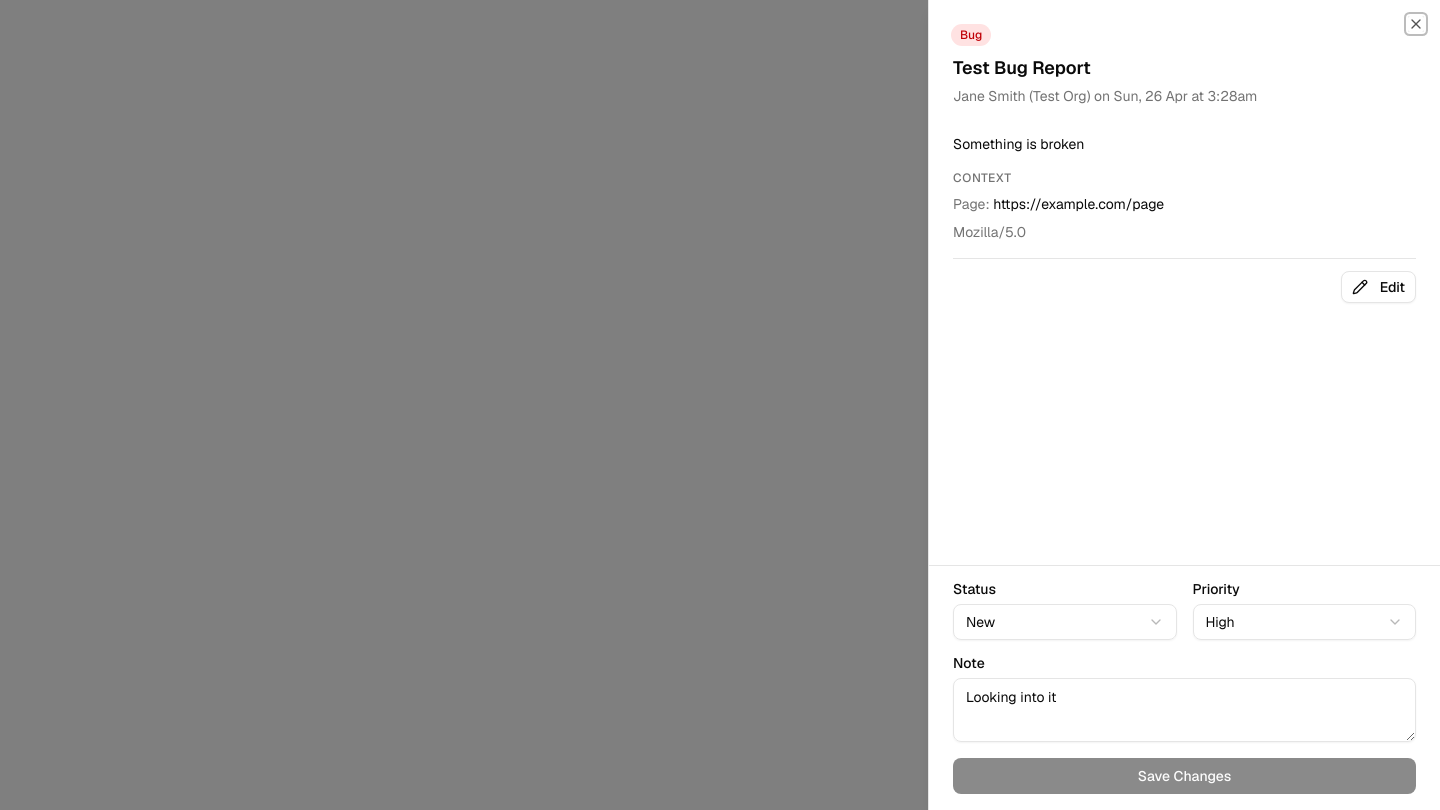
SupportSlideout › cancels edit mode and reverts to read view
Click the button "Edit".
click(1378, 287)  # box x1=1341 y1=271 x2=1416 y2=303
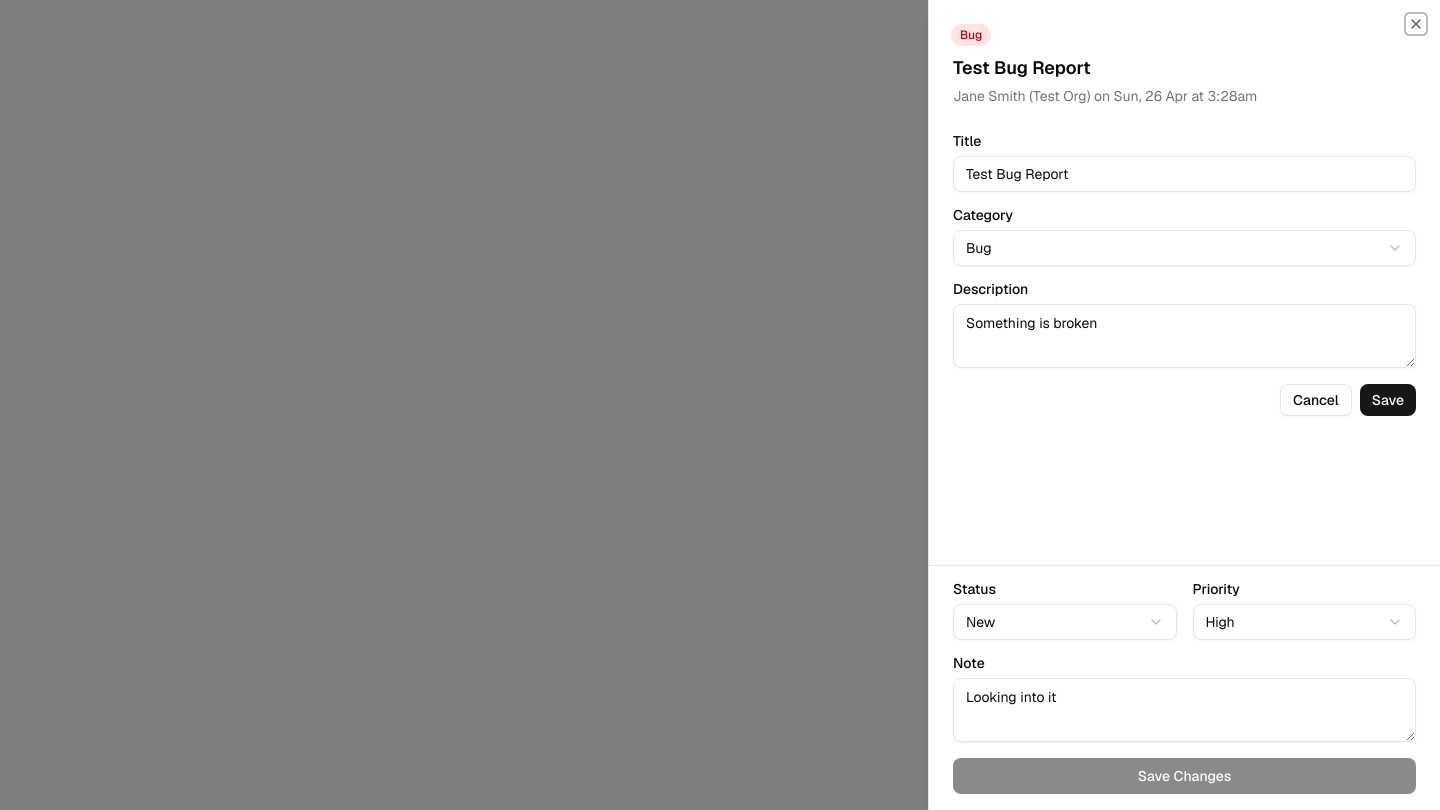
Expected: the field labelled "Title" is shown, x1=953 y1=156 x2=1416 y2=192
Click the button "Cancel".
click(1316, 400)  # box x1=1280 y1=384 x2=1352 y2=416
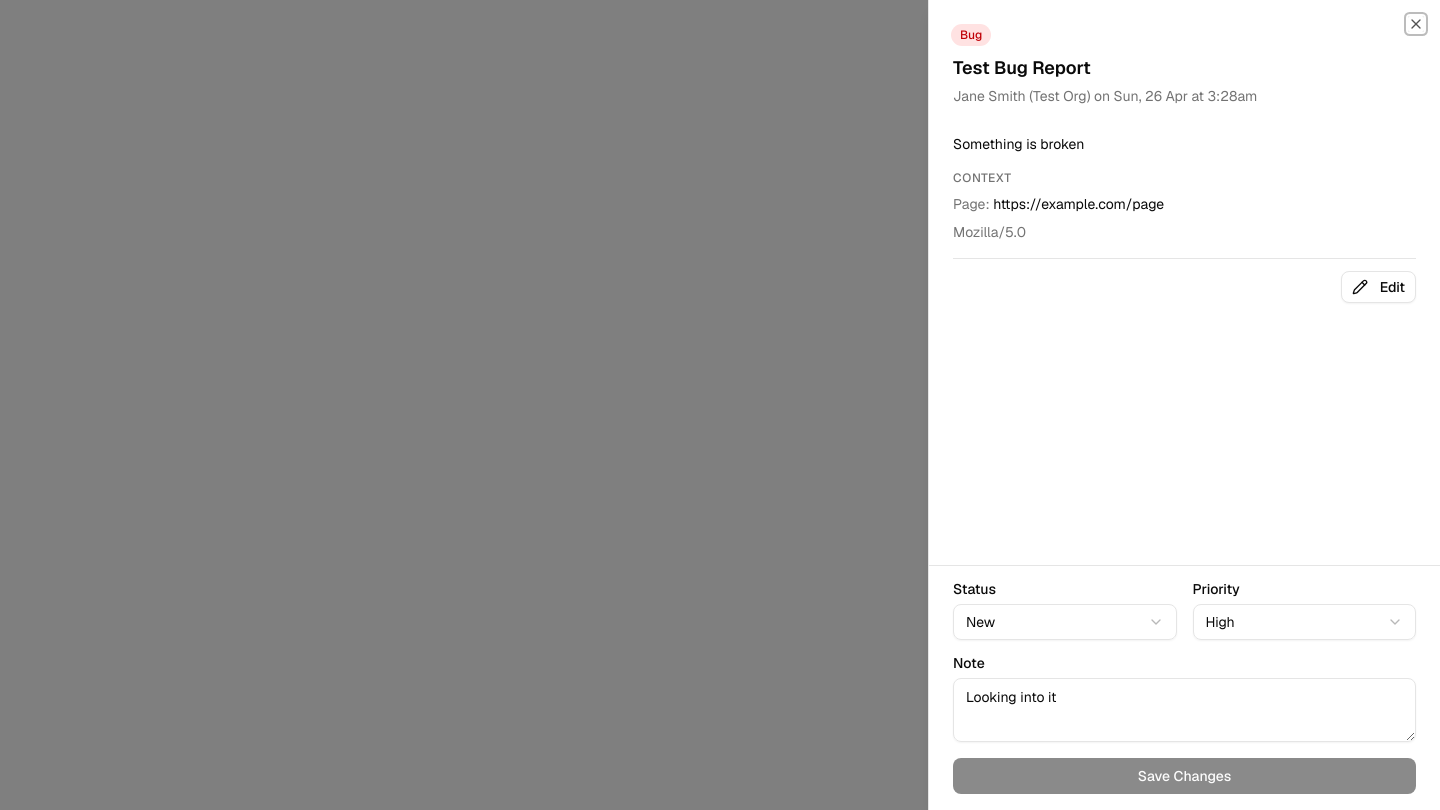
Expected: the label labelled "Title" is gone
Expected: the text "Something is broken" is shown, x1=953 y1=135 x2=1084 y2=153
